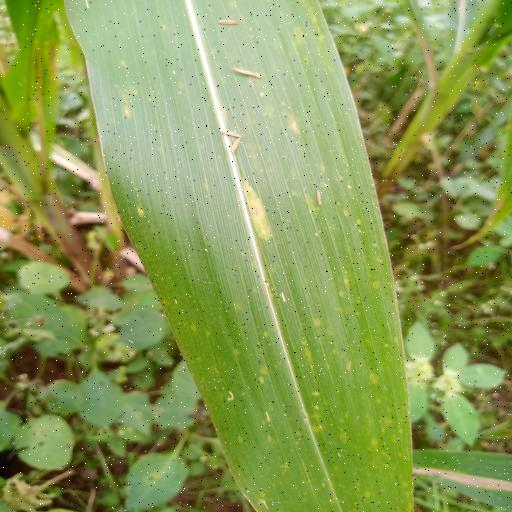Corn_Chlorotic_Leaf_Spot: (64, 1, 426, 512)
